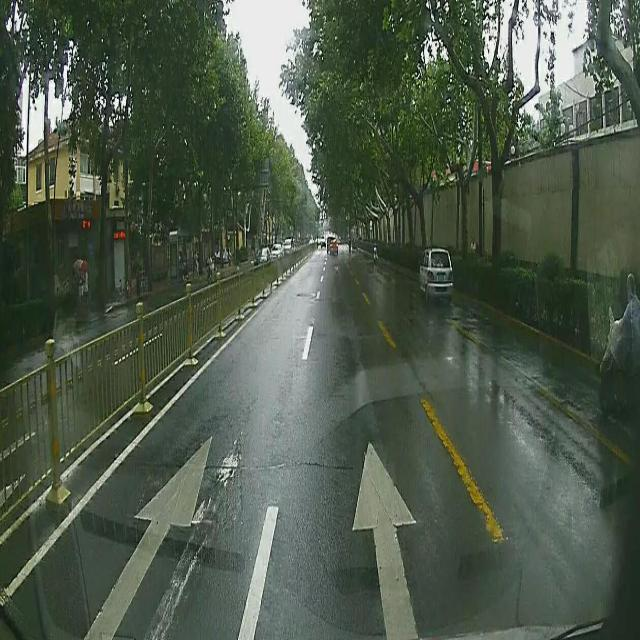car: (420, 250, 455, 306), (326, 230, 338, 252)
